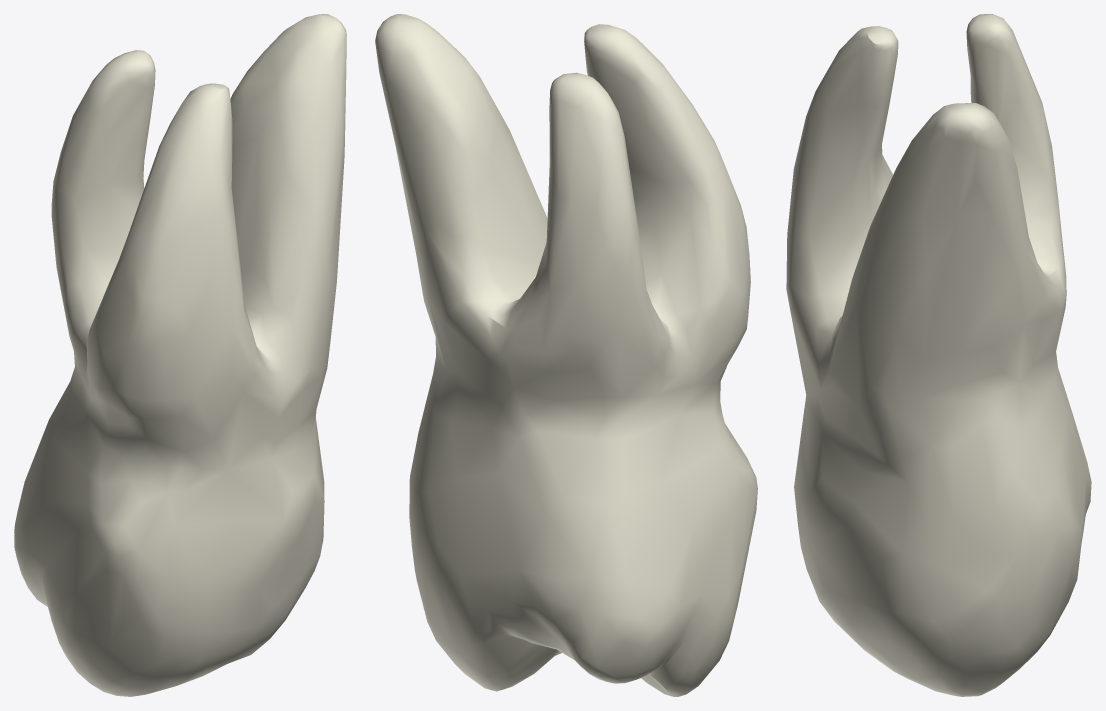
Rendered from Right second upper molar tooth.fbx.
3 renders of one model, left to right at view 1: azimuth 30°, elevation 25°; view 2: azimuth 150°, elevation 25°; view 3: azimuth 270°, elevation 25°, orthographic. The views are drawn at different scales.
Parts seen in each view (by area): view 1: Right second upper molar tooth; view 2: Right second upper molar tooth; view 3: Right second upper molar tooth.
Part boxes in pixels (left/top/right/bottom): Right second upper molar tooth: left=14, top=14, right=346, bottom=696; Right second upper molar tooth: left=375, top=14, right=757, bottom=696; Right second upper molar tooth: left=786, top=14, right=1091, bottom=696.
Bounding box in the file's own units: 1.59 × 3.02 × 1.31.
